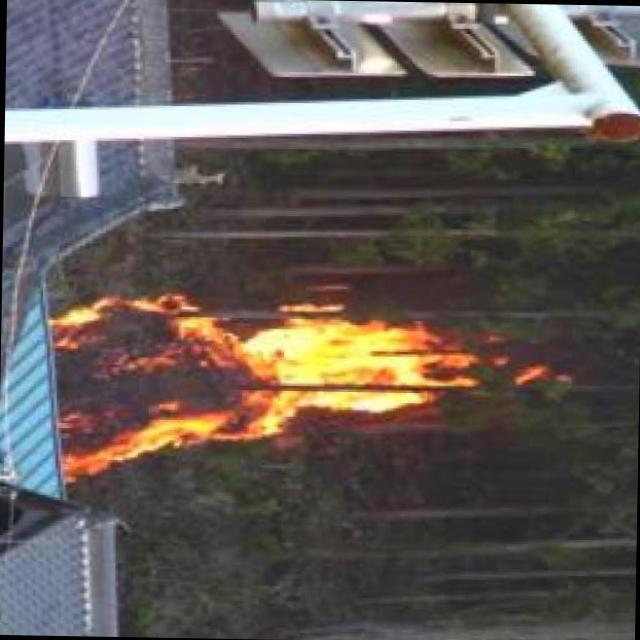Fire: (49, 294, 480, 467)
